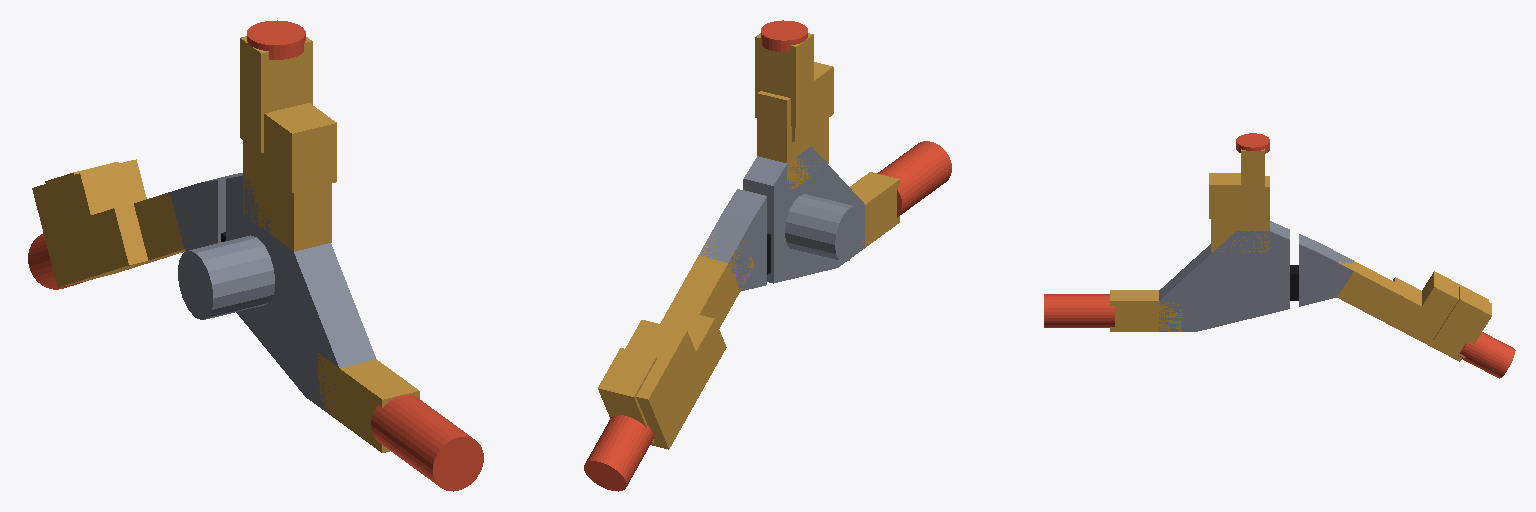
robot.urdf — g0068_c08:
<robot name="g0068_c08">
  <link name="palm">
    <visual name="palm_palm1">
      <origin xyz="0 0 0" rpy="0 0 0" />
      <geometry>
        <mesh filename="palm_palm1.obj" />
      </geometry>
      <material name="palm_palm1_mat">
        <color rgba="0.55 0.57 0.62 1" />
      </material>
    </visual>
    <collision>
      <origin xyz="0 0 0" rpy="0 0 0" />
      <geometry>
        <mesh filename="palm_palm1.obj" />
      </geometry>
    </collision>
    <visual name="palm_mount2">
      <origin xyz="0 0 0" rpy="0 0 0" />
      <geometry>
        <mesh filename="palm_mount2.obj" />
      </geometry>
      <material name="palm_mount2_mat">
        <color rgba="0.55 0.57 0.62 1" />
      </material>
    </visual>
    <collision>
      <origin xyz="0 0 0" rpy="0 0 0" />
      <geometry>
        <mesh filename="palm_mount2.obj" />
      </geometry>
    </collision>
    <visual name="palm_hinge3">
      <origin xyz="0 0.0325 -0.01" rpy="-3.14159265 1.57079633 0" />
      <geometry>
        <box size="0.029 0.034 0.02" />
      </geometry>
      <material name="palm_hinge3_mat">
        <color rgba="0.15 0.15 0.17 1" />
      </material>
    </visual>
    <collision>
      <origin xyz="0 0.0325 -0.01" rpy="-3.14159265 1.57079633 0" />
      <geometry>
        <box size="0.029 0.034 0.02" />
      </geometry>
    </collision>
    <visual name="palm_motor4">
      <origin xyz="0 -0.0725 -0.04" rpy="-0 -1.57079633 0" />
      <geometry>
        <box size="0.029 0.034 0.02" />
      </geometry>
      <material name="palm_motor4_mat">
        <color rgba="0.15 0.15 0.17 1" />
      </material>
    </visual>
    <collision>
      <origin xyz="0 -0.0725 -0.04" rpy="-0 -1.57079633 0" />
      <geometry>
        <box size="0.029 0.034 0.02" />
      </geometry>
    </collision>
    <visual name="palm_motor5">
      <origin xyz="0 0 0.0325" rpy="-1.57079633 -0 1.57079633" />
      <geometry>
        <box size="0.029 0.034 0.02" />
      </geometry>
      <material name="palm_motor5_mat">
        <color rgba="0.15 0.15 0.17 1" />
      </material>
    </visual>
    <collision>
      <origin xyz="0 0 0.0325" rpy="-1.57079633 -0 1.57079633" />
      <geometry>
        <box size="0.029 0.034 0.02" />
      </geometry>
    </collision>
    <inertial>
      <origin xyz="1.50627825e-19 -0.0210254426 -0.00627237082" rpy="-1.57079633 0.589414638 -1.57079633" />
      <mass value="0.410035921" />
      <inertia ixx="0.000210921157" ixy="0" ixz="0" iyy="0.000602340354" iyz="0" izz="0.000773898063" />
    </inertial>
  </link>
  <link name="palm0">
    <visual name="palm0_palm1">
      <origin xyz="0 0 0" rpy="0 0 0" />
      <geometry>
        <mesh filename="palm0_palm1.obj" />
      </geometry>
      <material name="palm0_palm1_mat">
        <color rgba="0.55 0.57 0.62 1" />
      </material>
    </visual>
    <collision>
      <origin xyz="0 0 0" rpy="0 0 0" />
      <geometry>
        <mesh filename="palm0_palm1.obj" />
      </geometry>
    </collision>
    <visual name="palm0_motor2">
      <origin xyz="0 0.0335048095 0.01375" rpy="1.57079633 1.04719755 -1.57079633" />
      <geometry>
        <box size="0.029 0.034 0.02" />
      </geometry>
      <material name="palm0_motor2_mat">
        <color rgba="0.15 0.15 0.17 1" />
      </material>
    </visual>
    <collision>
      <origin xyz="0 0.0335048095 0.01375" rpy="1.57079633 1.04719755 -1.57079633" />
      <geometry>
        <box size="0.029 0.034 0.02" />
      </geometry>
    </collision>
    <inertial>
      <origin xyz="-3.17700068e-19 0.024785038 0.0119050196" rpy="1.57079633 1.38720501 1.57079633" />
      <mass value="0.0972030308" />
      <inertia ixx="2.18770622e-05" ixy="0" ixz="0" iyy="2.74123527e-05" iyz="0" izz="3.9957924e-05" />
    </inertial>
  </link>
  <link name="f0_link0">
    <visual name="f0_link0_link1">
      <origin xyz="0.02375 0 0" rpy="0 -0 0" />
      <geometry>
        <box size="0.0715 0.024 0.033" />
      </geometry>
      <material name="f0_link0_link1_mat">
        <color rgba="0.80 0.62 0.30 1" />
      </material>
    </visual>
    <collision>
      <origin xyz="0.02375 0 0" rpy="0 -0 0" />
      <geometry>
        <box size="0.0715 0.024 0.033" />
      </geometry>
    </collision>
    <inertial>
      <origin xyz="0.02375 0 0" rpy="0 0 0" />
      <mass value="0.099099" />
      <inertia ixx="1.37499863e-05" ixy="0" ixz="0" iyy="5.12114728e-05" iyz="0" izz="4.69749906e-05" />
    </inertial>
  </link>
  <link name="f0_link1">
    <visual name="f0_link1_link1">
      <origin xyz="0.039 0 3.46944695e-18" rpy="-1.57079633 -0 -1.57079633" />
      <geometry>
        <cylinder radius="0.0165" length="0.069" />
      </geometry>
      <material name="f0_link1_link1_mat">
        <color rgba="0.85 0.35 0.25 1" />
      </material>
    </visual>
    <collision>
      <origin xyz="0.039 0 3.46944695e-18" rpy="-1.57079633 -0 -1.57079633" />
      <geometry>
        <cylinder radius="0.0165" length="0.069" />
      </geometry>
    </collision>
    <inertial>
      <origin xyz="0.039 0 0" rpy="0 0 0" />
      <mass value="0.136206302" />
      <inertia ixx="1.76445909e-05" ixy="0" ixz="0" iyy="0.000104842911" iyz="0" izz="0.000104842911" />
    </inertial>
  </link>
  <link name="f1_link0">
    <visual name="f1_link0_link1">
      <origin xyz="0.02375 0 -0.01225" rpy="0 -0 0" />
      <geometry>
        <box size="0.0715 0.024 0.0575" />
      </geometry>
      <material name="f1_link0_link1_mat">
        <color rgba="0.80 0.62 0.30 1" />
      </material>
    </visual>
    <collision>
      <origin xyz="0.02375 0 -0.01225" rpy="0 -0 0" />
      <geometry>
        <box size="0.0715 0.024 0.0575" />
      </geometry>
    </collision>
    <inertial>
      <origin xyz="0.02375 0 -0.01225" rpy="0 0 0" />
      <mass value="0.1726725" />
      <inertia ixx="5.58631511e-05" ixy="0" ixz="0" iyy="0.000121136953" iyz="0" izz="8.18503623e-05" />
    </inertial>
  </link>
  <link name="f1_link1">
    <visual name="f1_link1_link1">
      <origin xyz="-0.00625 0 -0.0165" rpy="0 -0 0" />
      <geometry>
        <box size="0.0365 0.029 0.053" />
      </geometry>
      <material name="f1_link1_link1_mat">
        <color rgba="0.80 0.62 0.30 1" />
      </material>
    </visual>
    <collision>
      <origin xyz="-0.00625 0 -0.0165" rpy="0 -0 0" />
      <geometry>
        <box size="0.0365 0.029 0.053" />
      </geometry>
    </collision>
    <inertial>
      <origin xyz="-0.00625 0 -0.0165" rpy="0 0 0" />
      <mass value="0.098175875" />
      <inertia ixx="2.98618286e-05" ixy="0" ixz="0" iyy="3.38809035e-05" iyz="0" izz="1.778006e-05" />
    </inertial>
  </link>
  <link name="f1_link2">
    <visual name="f1_link2_link1">
      <origin xyz="0.01875 0 0" rpy="0 -0 0" />
      <geometry>
        <box size="0.0615 0.033 0.024" />
      </geometry>
      <material name="f1_link2_link1_mat">
        <color rgba="0.80 0.62 0.30 1" />
      </material>
    </visual>
    <collision>
      <origin xyz="0.01875 0 0" rpy="0 -0 0" />
      <geometry>
        <box size="0.0615 0.033 0.024" />
      </geometry>
    </collision>
    <inertial>
      <origin xyz="0.01875 0 0" rpy="0 0 0" />
      <mass value="0.085239" />
      <inertia ixx="1.18269113e-05" ixy="0" ixz="0" iyy="3.09577393e-05" iyz="0" izz="3.46017066e-05" />
    </inertial>
  </link>
  <link name="f1_link3">
    <visual name="f1_link3_link1">
      <origin xyz="0.009 0 0" rpy="-1.57079633 -0 -1.57079633" />
      <geometry>
        <cylinder radius="0.0165" length="0.009" />
      </geometry>
      <material name="f1_link3_link1_mat">
        <color rgba="0.85 0.35 0.25 1" />
      </material>
    </visual>
    <collision>
      <origin xyz="0.009 0 0" rpy="-1.57079633 -0 -1.57079633" />
      <geometry>
        <cylinder radius="0.0165" length="0.009" />
      </geometry>
    </collision>
    <inertial>
      <origin xyz="0.009 0 0" rpy="0 0 0" />
      <mass value="0.046399949" />
      <inertia ixx="5.41970115e-06" ixy="0" ixz="0" iyy="7.09430898e-06" iyz="0" izz="7.09430898e-06" />
    </inertial>
  </link>
  <link name="f2_link0">
    <visual name="f2_link0_link1">
      <origin xyz="0.03375 0 0" rpy="0 2.57628149e-17 0" />
      <geometry>
        <box size="0.0915 0.024 0.033" />
      </geometry>
      <material name="f2_link0_link1_mat">
        <color rgba="0.80 0.62 0.30 1" />
      </material>
    </visual>
    <collision>
      <origin xyz="0.03375 0 0" rpy="0 2.57628149e-17 0" />
      <geometry>
        <box size="0.0915 0.024 0.033" />
      </geometry>
    </collision>
    <inertial>
      <origin xyz="0.03375 0 0" rpy="0 0 0" />
      <mass value="0.126819" />
      <inertia ixx="1.75961363e-05" ixy="0" ixz="0" iyy="9.99888553e-05" iyz="0" izz="9.45673431e-05" />
    </inertial>
  </link>
  <link name="f2_link1">
    <visual name="f2_link1_link1">
      <origin xyz="0.014 -0.00625 6.9388939e-18" rpy="0 2.57628149e-17 0" />
      <geometry>
        <box size="0.052 0.0365 0.033" />
      </geometry>
      <material name="f2_link1_link1_mat">
        <color rgba="0.80 0.62 0.30 1" />
      </material>
    </visual>
    <collision>
      <origin xyz="0.014 -0.00625 6.9388939e-18" rpy="0 2.57628149e-17 0" />
      <geometry>
        <box size="0.052 0.0365 0.033" />
      </geometry>
    </collision>
    <inertial>
      <origin xyz="0.014 -0.00625 0" rpy="0 0 0" />
      <mass value="0.1096095" />
      <inertia ixx="2.21160002e-05" ixy="0" ixz="0" iyy="3.46457361e-05" iyz="0" izz="3.6867612e-05" />
    </inertial>
  </link>
  <link name="f2_link2">
    <visual name="f2_link2_link1">
      <origin xyz="0.019 -0.00625 -0.01225" rpy="0 2.57628149e-17 0" />
      <geometry>
        <box size="0.062 0.0365 0.0575" />
      </geometry>
      <material name="f2_link2_link1_mat">
        <color rgba="0.80 0.62 0.30 1" />
      </material>
    </visual>
    <collision>
      <origin xyz="0.019 -0.00625 -0.01225" rpy="0 2.57628149e-17 0" />
      <geometry>
        <box size="0.062 0.0365 0.0575" />
      </geometry>
    </collision>
    <inertial>
      <origin xyz="0.019 -0.00625 -0.01225" rpy="0 0 0" />
      <mass value="0.227714375" />
      <inertia ixx="8.8021094e-05" ixy="0" ixz="0" iyy="0.000135684559" iyz="0" izz="9.82255445e-05" />
    </inertial>
  </link>
  <link name="f2_link3">
    <visual name="f2_link3_link1">
      <origin xyz="-0.00625 0 -0.0165" rpy="0 2.57628149e-17 0" />
      <geometry>
        <box size="0.0365 0.029 0.053" />
      </geometry>
      <material name="f2_link3_link1_mat">
        <color rgba="0.80 0.62 0.30 1" />
      </material>
    </visual>
    <collision>
      <origin xyz="-0.00625 0 -0.0165" rpy="0 2.57628149e-17 0" />
      <geometry>
        <box size="0.0365 0.029 0.053" />
      </geometry>
    </collision>
    <inertial>
      <origin xyz="-0.00625 0 -0.0165" rpy="0 0 0" />
      <mass value="0.098175875" />
      <inertia ixx="2.98618286e-05" ixy="0" ixz="0" iyy="3.38809035e-05" iyz="0" izz="1.778006e-05" />
    </inertial>
  </link>
  <link name="f2_link4">
    <visual name="f2_link4_link1">
      <origin xyz="0.029 0 -2.42861287e-17" rpy="-1.57079633 -0 -1.57079633" />
      <geometry>
        <cylinder radius="0.0165" length="0.049" />
      </geometry>
      <material name="f2_link4_link1_mat">
        <color rgba="0.85 0.35 0.25 1" />
      </material>
    </visual>
    <collision>
      <origin xyz="0.029 0 -2.42861287e-17" rpy="-1.57079633 -0 -1.57079633" />
      <geometry>
        <cylinder radius="0.0165" length="0.049" />
      </geometry>
    </collision>
    <inertial>
      <origin xyz="0.029 0 0" rpy="0 0 0" />
      <mass value="0.106270851" />
      <inertia ixx="1.35696277e-05" ixy="0" ixz="0" iyy="5.30015704e-05" iyz="0" izz="5.30015704e-05" />
    </inertial>
  </link>
  <joint name="palm0_joint" type="revolute">
    <parent link="palm" />
    <child link="palm0" />
    <origin xyz="0 0.04 -0.01" rpy="0 0 0" />
    <axis xyz="0 1.2246468e-16 -1" />
    <limit effort="0.5" lower="-0.523598776" upper="0.523598776" velocity="5" />
    <dynamics damping="0.0775033" friction="0" />
  </joint>
  <joint name="f0_j0" type="revolute">
    <parent link="palm" />
    <child link="f0_link0" />
    <origin xyz="0 -0.08 -0.04" rpy="0 1.8369702e-16 -1.57079633" />
    <axis xyz="0 0 1" />
    <limit effort="0.5" lower="-0.523598776" upper="1.57079633" velocity="5" />
    <dynamics damping="0.0775033" friction="0" />
  </joint>
  <joint name="f0_j1" type="revolute">
    <parent link="f0_link0" />
    <child link="f0_link1" />
    <origin xyz="0.05 0 0" rpy="0 0 0" />
    <axis xyz="0 0 1" />
    <limit effort="0.5" lower="-0.523598776" upper="1.57079633" velocity="5" />
    <dynamics damping="0.0775033" friction="0" />
  </joint>
  <joint name="f1_j0" type="revolute">
    <parent link="palm" />
    <child link="f1_link0" />
    <origin xyz="0 0 0.04" rpy="-1.57079633 -1.57079633 0" />
    <axis xyz="0 0 1" />
    <limit effort="0.5" lower="-0.523598776" upper="1.57079633" velocity="5" />
    <dynamics damping="0.0775033" friction="0" />
  </joint>
  <joint name="f1_j1" type="revolute">
    <parent link="f1_link0" />
    <child link="f1_link1" />
    <origin xyz="0.05 0 0" rpy="0 0 0" />
    <axis xyz="0 0 1" />
    <limit effort="0.5" lower="-0.523598776" upper="1.57079633" velocity="5" />
    <dynamics damping="0.0775033" friction="0" />
  </joint>
  <joint name="f1_j2" type="revolute">
    <parent link="f1_link1" />
    <child link="f1_link2" />
    <origin xyz="0 0 0" rpy="0 0 0" />
    <axis xyz="-0 -1 -6.123234e-17" />
    <limit effort="0.5" lower="-0.523598776" upper="0.523598776" velocity="5" />
    <dynamics damping="0.0775033" friction="0" />
  </joint>
  <joint name="f1_j3" type="revolute">
    <parent link="f1_link2" />
    <child link="f1_link3" />
    <origin xyz="0.04 0 0" rpy="0 0 0" />
    <axis xyz="-0 -1 -6.123234e-17" />
    <limit effort="0.5" lower="-0.523598776" upper="0.523598776" velocity="5" />
    <dynamics damping="0.0775033" friction="0" />
  </joint>
  <joint name="f2_j0" type="revolute">
    <parent link="palm0" />
    <child link="f2_link0" />
    <origin xyz="0 0.04 0.01" rpy="3.14159265 0.523598776 1.57079633" />
    <axis xyz="0 0 1" />
    <limit effort="0.5" lower="-0.523598776" upper="1.57079633" velocity="5" />
    <dynamics damping="0.0775033" friction="0" />
  </joint>
  <joint name="f2_j1" type="revolute">
    <parent link="f2_link0" />
    <child link="f2_link1" />
    <origin xyz="0.07 0 0" rpy="0 0 0" />
    <axis xyz="0 0 1" />
    <limit effort="0.5" lower="-0.523598776" upper="1.57079633" velocity="5" />
    <dynamics damping="0.0775033" friction="0" />
  </joint>
  <joint name="f2_j2" type="revolute">
    <parent link="f2_link1" />
    <child link="f2_link2" />
    <origin xyz="0.03 0 0" rpy="0 0 0" />
    <axis xyz="0 0 1" />
    <limit effort="0.5" lower="-0.523598776" upper="1.57079633" velocity="5" />
    <dynamics damping="0.0775033" friction="0" />
  </joint>
  <joint name="f2_j3" type="revolute">
    <parent link="f2_link2" />
    <child link="f2_link3" />
    <origin xyz="0.04 0 0" rpy="0 0 0" />
    <axis xyz="0 0 1" />
    <limit effort="0.5" lower="-0.523598776" upper="1.57079633" velocity="5" />
    <dynamics damping="0.0775033" friction="0" />
  </joint>
  <joint name="f2_j4" type="revolute">
    <parent link="f2_link3" />
    <child link="f2_link4" />
    <origin xyz="0 0 0" rpy="0 0 0" />
    <axis xyz="0 1 6.123234e-17" />
    <limit effort="0.5" lower="-0.523598776" upper="0.523598776" velocity="5" />
    <dynamics damping="0.0775033" friction="0" />
  </joint>
</robot>

--- Render facts (derived) ---
The picture shows the robot from 3 angles, left to right: view 1: azimuth 30°, elevation 25°; view 2: azimuth 150°, elevation 25°; view 3: azimuth 270°, elevation 25°; orthographic projection.
Robot: g0068_c08 — 13 links, 12 joints (12 revolute); root link palm; default pose: every joint at zero.
Visible links, largest first — view 1: palm, f2_link2, f0_link1, f1_link1, f1_link2, f1_link0, f0_link0, f2_link1, palm0, f2_link0, f1_link3, f2_link4; view 2: palm, f2_link2, palm0, f2_link0, f1_link2, f1_link0, f2_link4, f0_link1, f2_link3, f0_link0, f2_link1, f1_link1 (+1 smaller); view 3: palm, palm0, f0_link1, f0_link0, f2_link3, f2_link0, f2_link1, f1_link1, f2_link2, f2_link4, f1_link2, f1_link0 (+1 smaller).
Boxes of the visible links, x1,y1,x2,y2 form: palm: [178, 175, 375, 414]; f2_link2: [32, 159, 150, 287]; f0_link1: [371, 395, 483, 491]; f1_link1: [245, 103, 336, 192]; f1_link2: [240, 36, 312, 152]; f1_link0: [243, 140, 331, 251]; f0_link0: [318, 353, 419, 452]; f2_link1: [74, 203, 166, 277]; palm0: [170, 173, 242, 251]; f2_link0: [134, 192, 192, 260]; f1_link3: [247, 20, 305, 59]; f2_link4: [28, 233, 92, 289]; palm: [743, 146, 864, 283]; f2_link2: [625, 320, 695, 449]; palm0: [698, 189, 766, 291]; f2_link0: [660, 232, 754, 333]; f1_link2: [755, 33, 813, 127]; f1_link0: [757, 91, 828, 188]; f2_link4: [584, 415, 653, 491]; f0_link1: [877, 141, 951, 217]; f2_link3: [598, 348, 656, 442]; f0_link0: [850, 172, 899, 252]; f2_link1: [668, 312, 726, 404]; f1_link1: [792, 62, 833, 141]; palm: [1159, 221, 1298, 331]; palm0: [1299, 234, 1353, 306]; f0_link1: [1044, 294, 1114, 327]; f0_link0: [1110, 290, 1182, 331]; f2_link3: [1433, 287, 1491, 357]; f2_link0: [1337, 261, 1413, 318]; f2_link1: [1379, 277, 1440, 342]; f1_link1: [1209, 173, 1262, 218]; f2_link2: [1422, 271, 1488, 361]; f2_link4: [1458, 332, 1515, 378]; f1_link2: [1241, 149, 1264, 207]; f1_link0: [1211, 176, 1269, 252].
Size in the robot's own frame: 0.0685 by 0.4593 by 0.2545 metres.
Meshes: 3 distinct files referenced, 3 mesh visuals loaded (3 OBJ).
